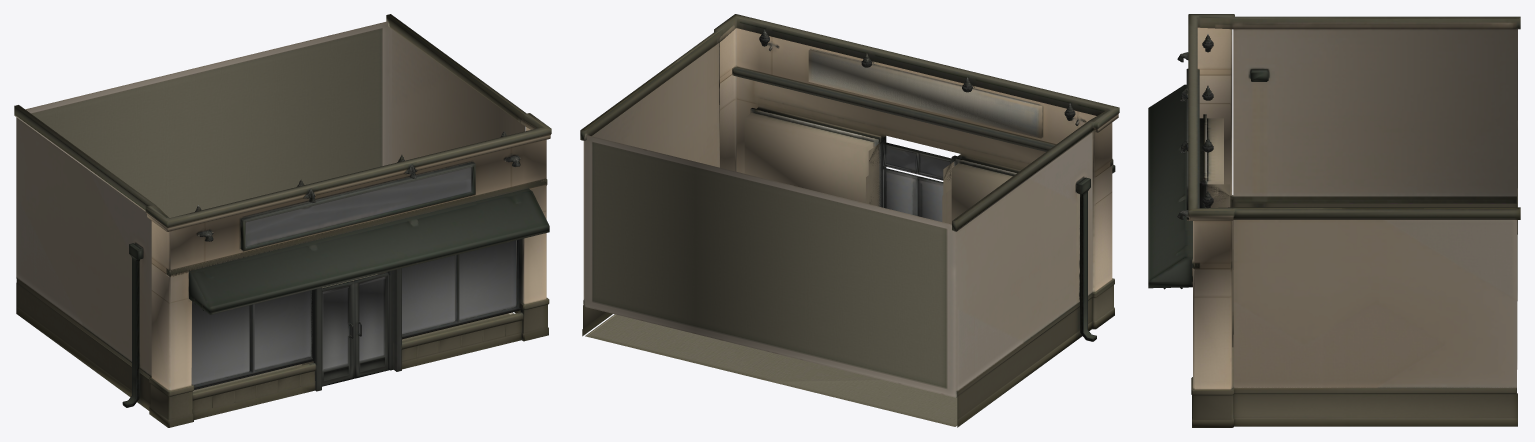
Rendered from Modular single-story commercial building shell 3d model.glb.
3 renders of one model, left to right at view 1: azimuth 30°, elevation 25°; view 2: azimuth 150°, elevation 25°; view 3: azimuth 270°, elevation 25°, orthographic. The views are drawn at different scales.
Visible parts, largest first — view 1: tripo_node_63aa157a-7c85-4d02-b2f2-e4c9f5440b3a; view 2: tripo_node_63aa157a-7c85-4d02-b2f2-e4c9f5440b3a; view 3: tripo_node_63aa157a-7c85-4d02-b2f2-e4c9f5440b3a.
Part boxes in pixels (box(x1,y1,x2,y2)): tripo_node_63aa157a-7c85-4d02-b2f2-e4c9f5440b3a: box(14, 14, 551, 427); tripo_node_63aa157a-7c85-4d02-b2f2-e4c9f5440b3a: box(580, 14, 1119, 427); tripo_node_63aa157a-7c85-4d02-b2f2-e4c9f5440b3a: box(1148, 14, 1520, 427).
Bounding box in the file's own units: 0.998 × 0.5098 × 0.7793.
Materials: 1 (1 with a texture image).
